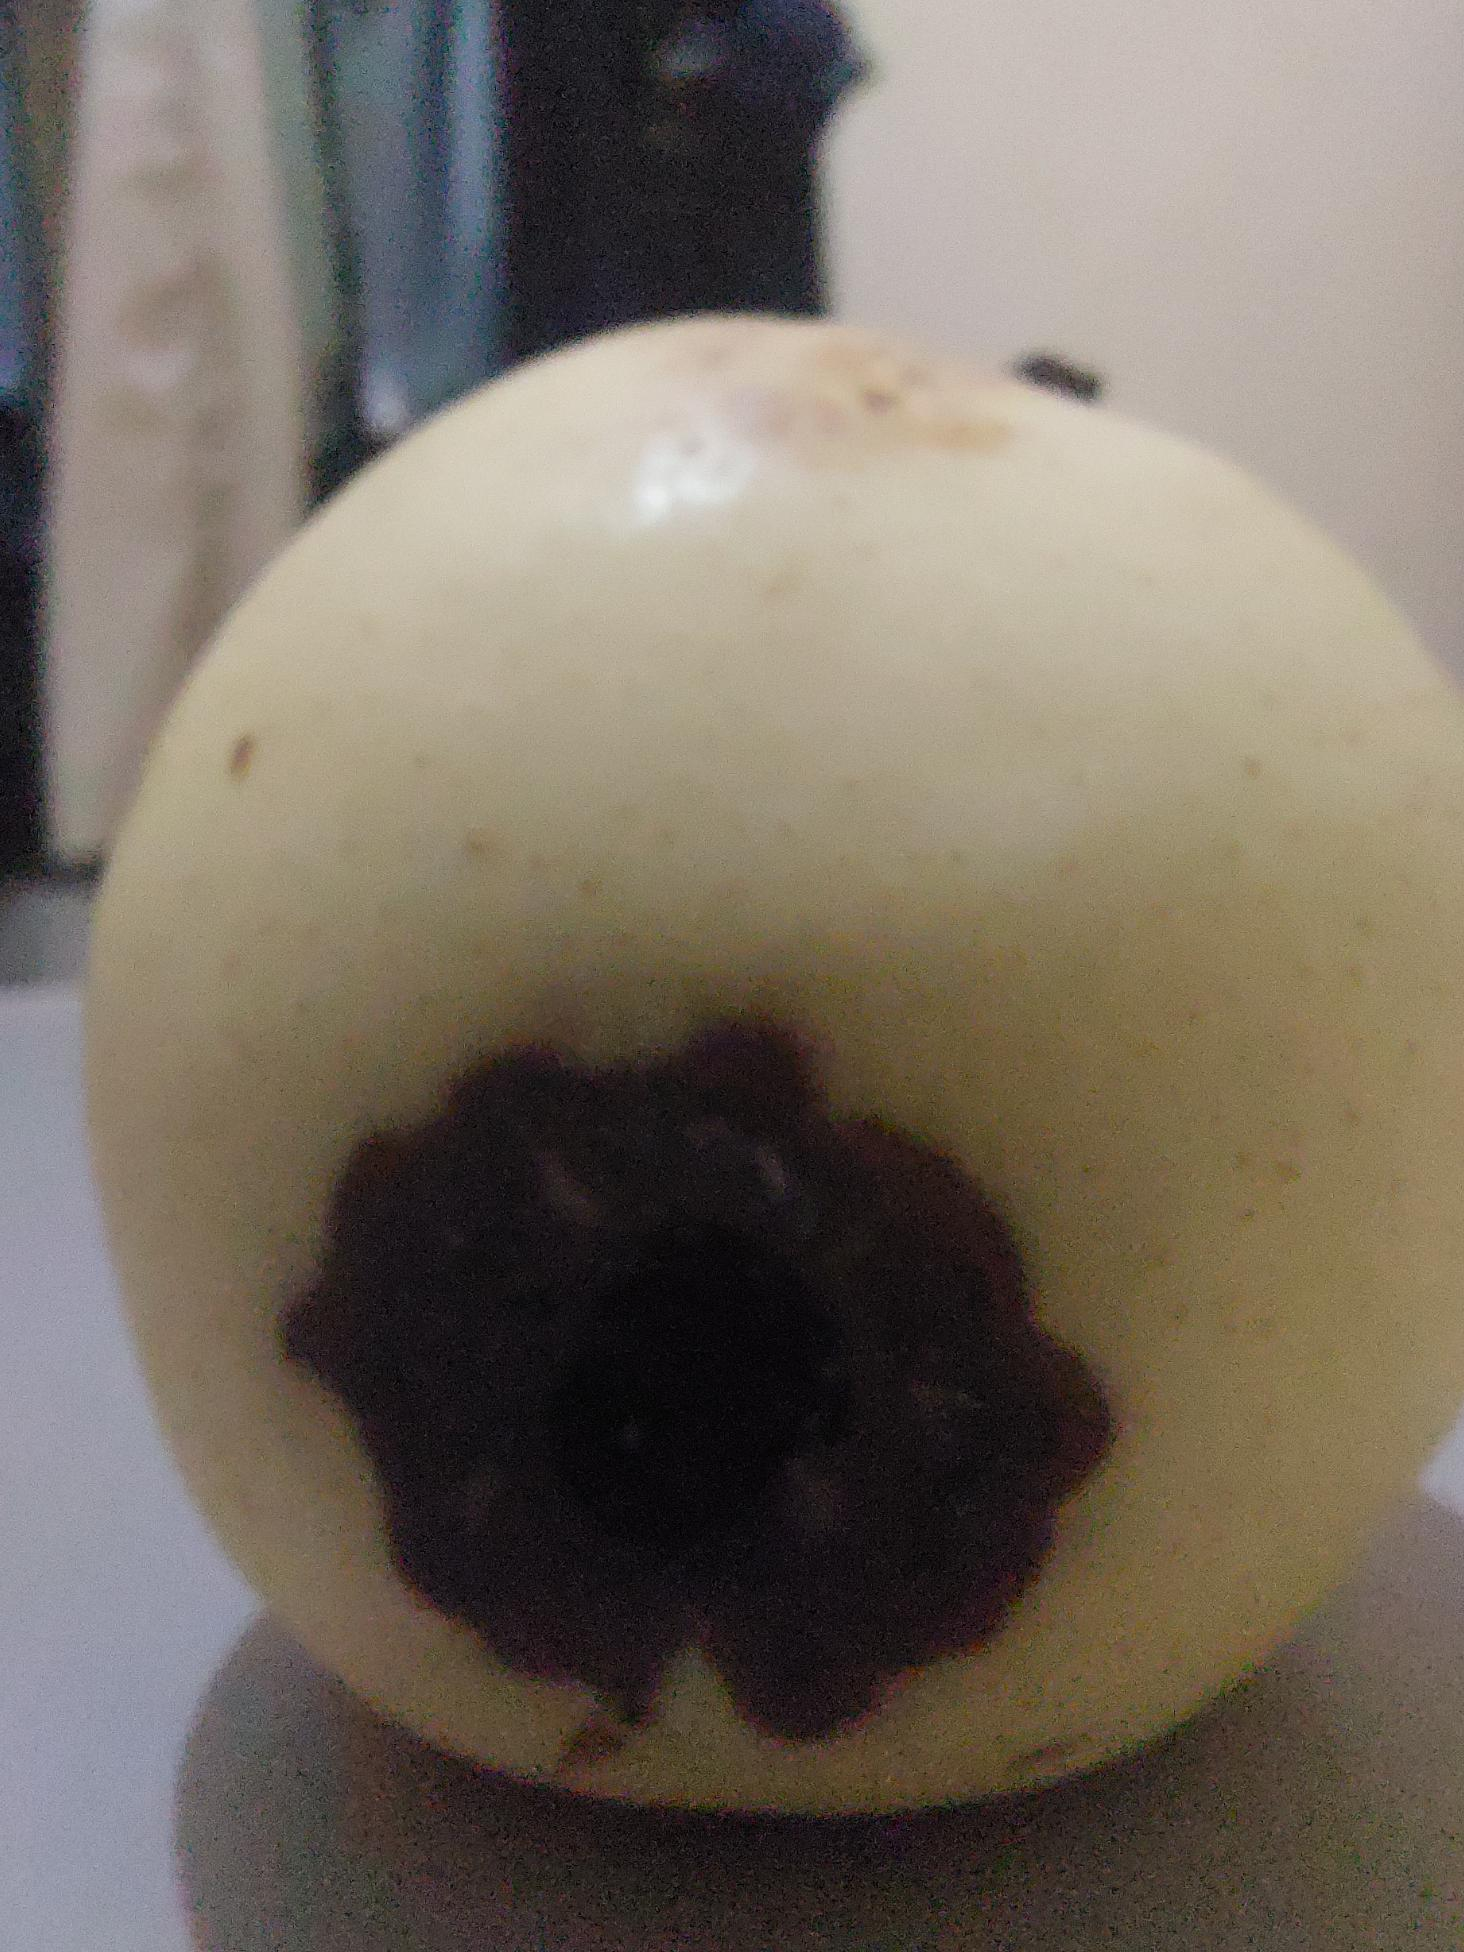Bad Pear: (62, 304, 1464, 1857)
